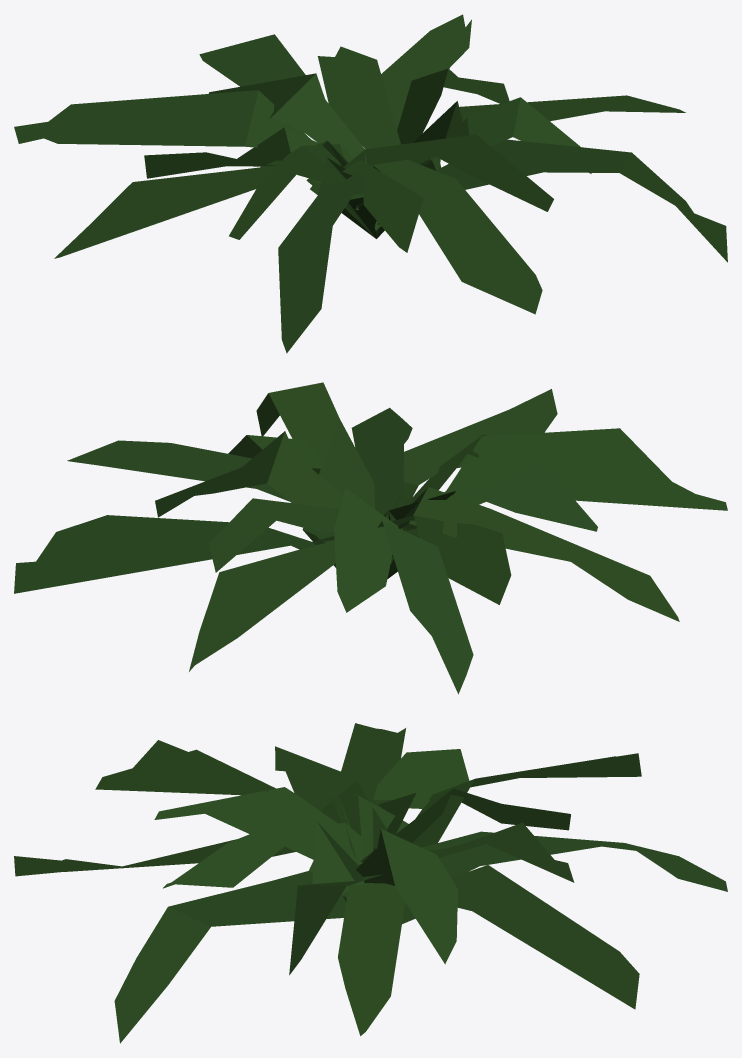
Rendered from bush2.fbx.
3 views of the same model, one above another, from view 1: azimuth 30°, elevation 25°; view 2: azimuth 150°, elevation 25°; view 3: azimuth 270°, elevation 25° (orthographic).
Visible parts, largest first — view 1: Plane.002, Cone; view 2: Plane.002; view 3: Plane.002.
Boxes of the visible parts, x1,y1,x2,y2 form: Plane.002: [14, 14, 727, 353]; Cone: [306, 157, 440, 238]; Plane.002: [14, 382, 727, 694]; Plane.002: [14, 723, 727, 1043].
Size of the model in its own units: 14.34 by 3.32 by 13.99.
